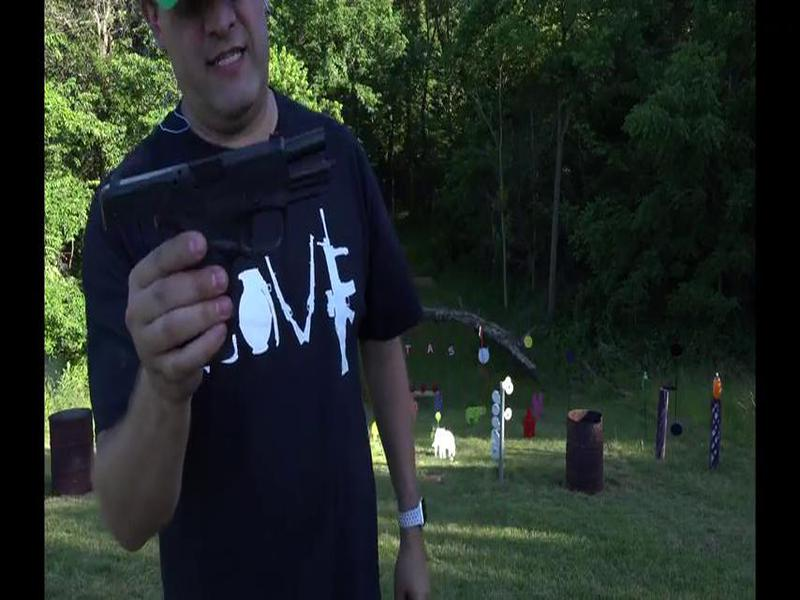Pistola: (104, 107, 364, 368)
